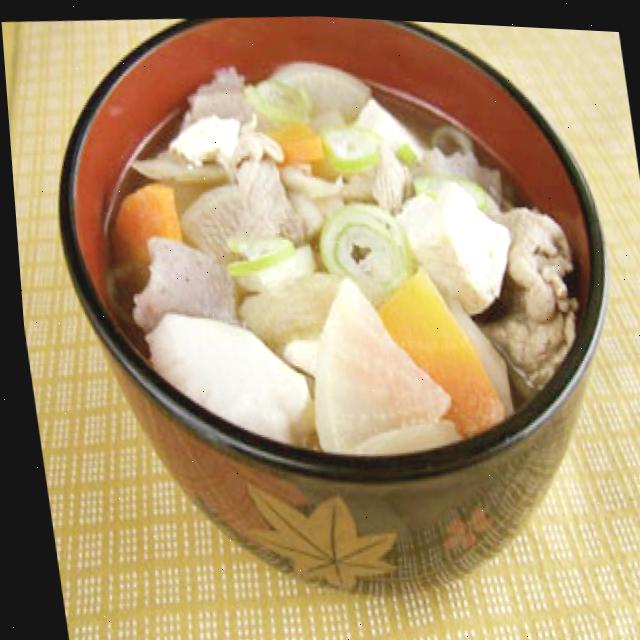蔬菜料理: (16, 1, 623, 508)
